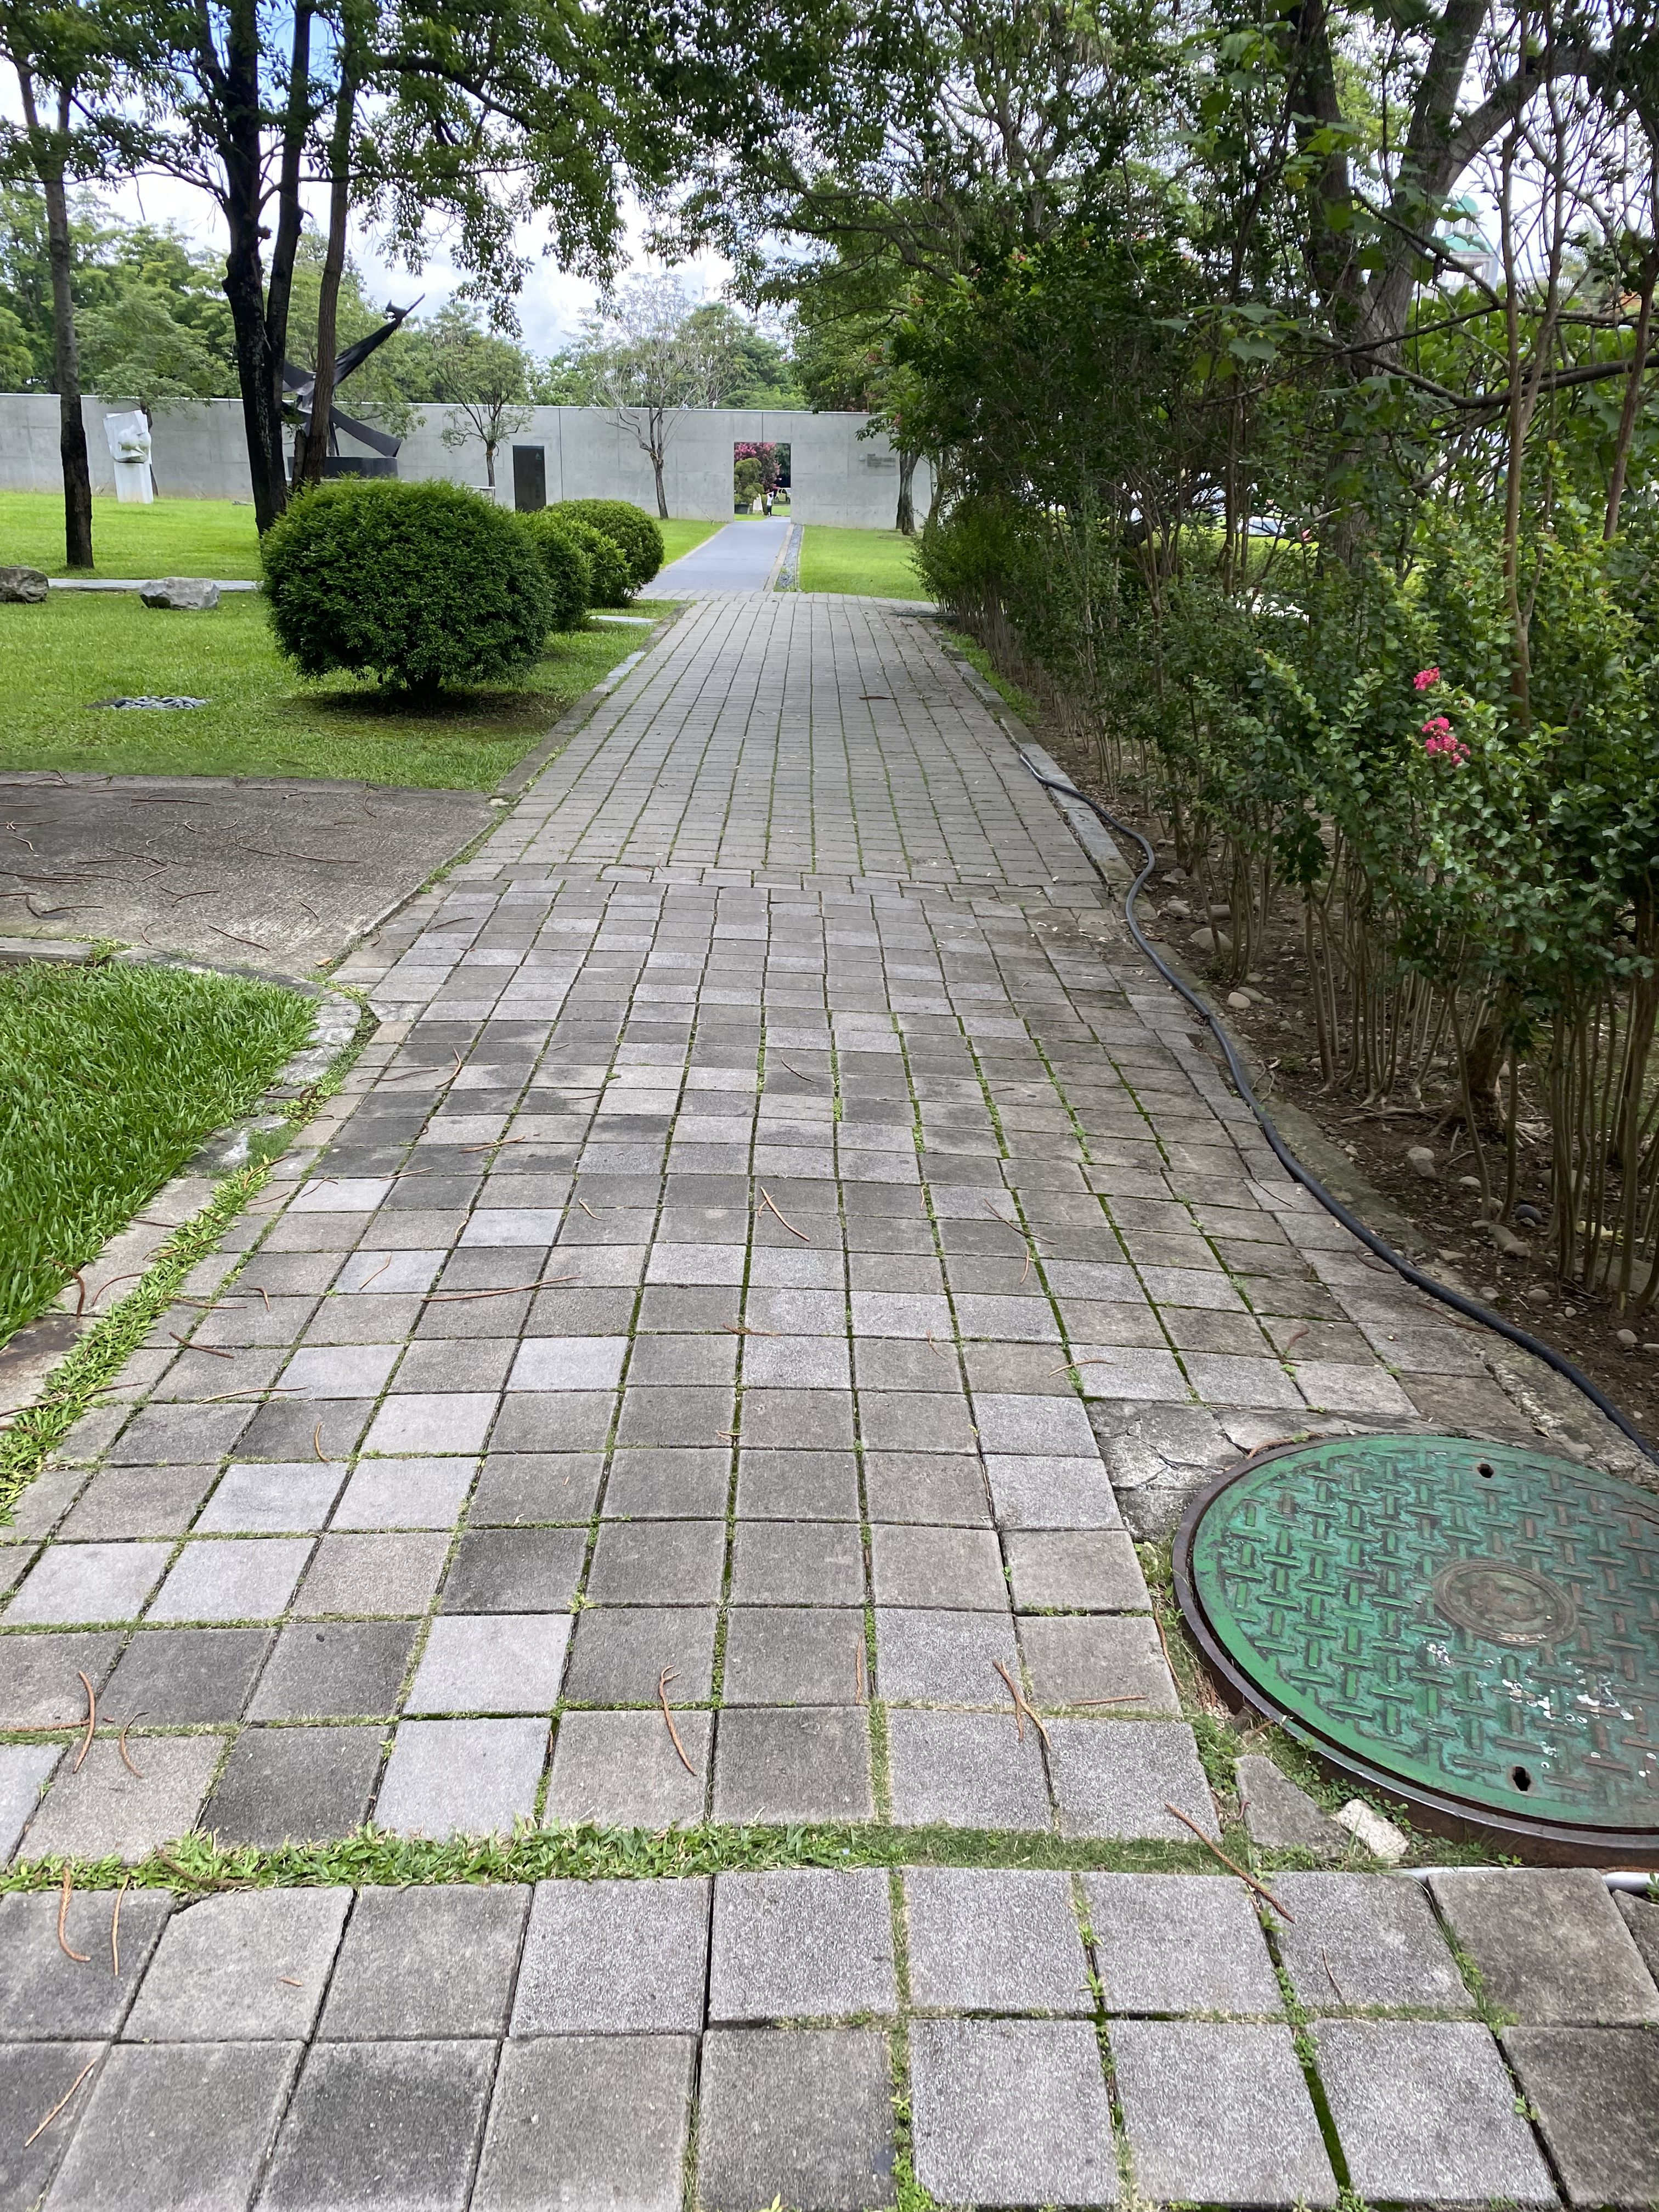0: (620, 488, 1051, 784)
sidewalk: (5, 766, 1659, 2207)
